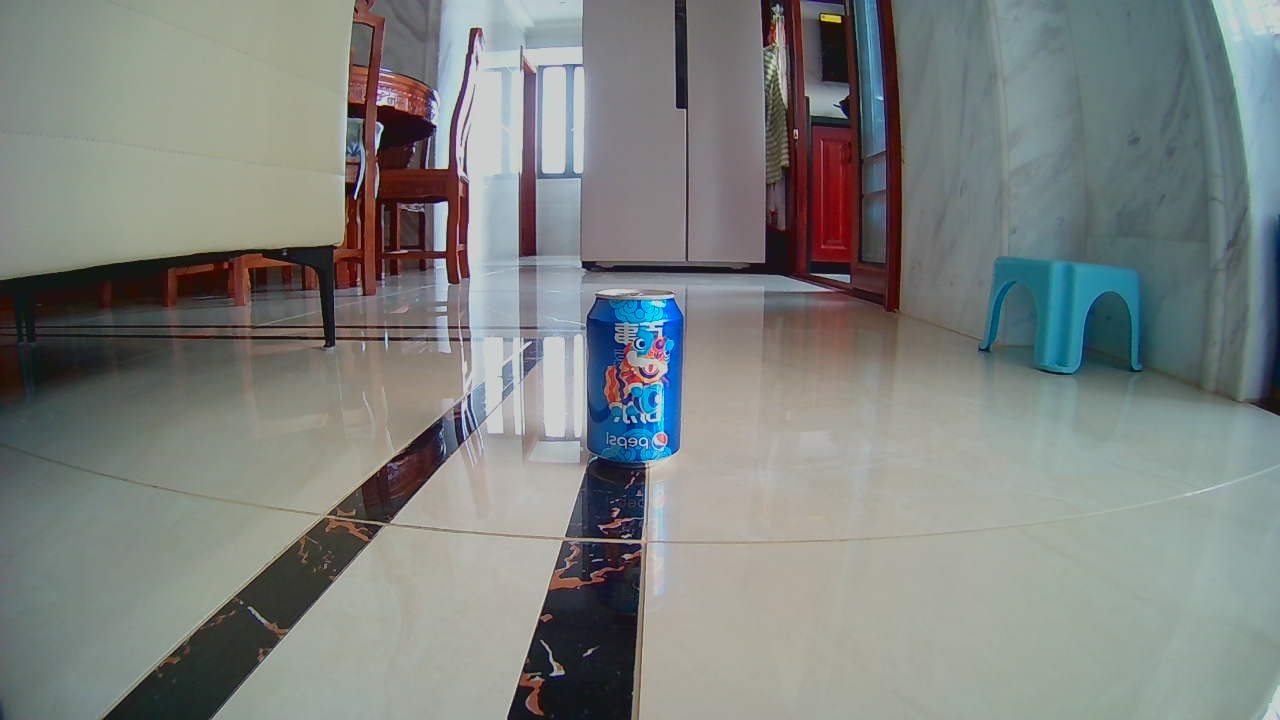pessi: (581, 290, 682, 463)
